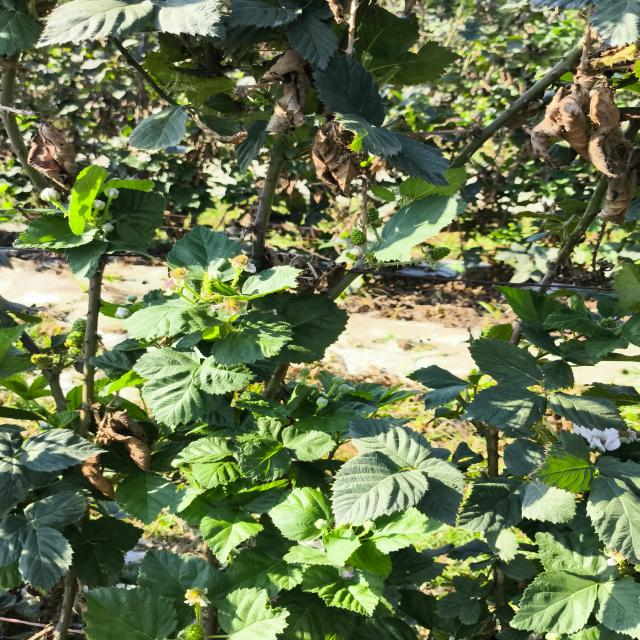boton: (114, 307, 131, 319), (316, 397, 328, 408), (126, 294, 137, 303), (300, 367, 310, 376), (333, 376, 344, 384), (339, 384, 350, 392)
